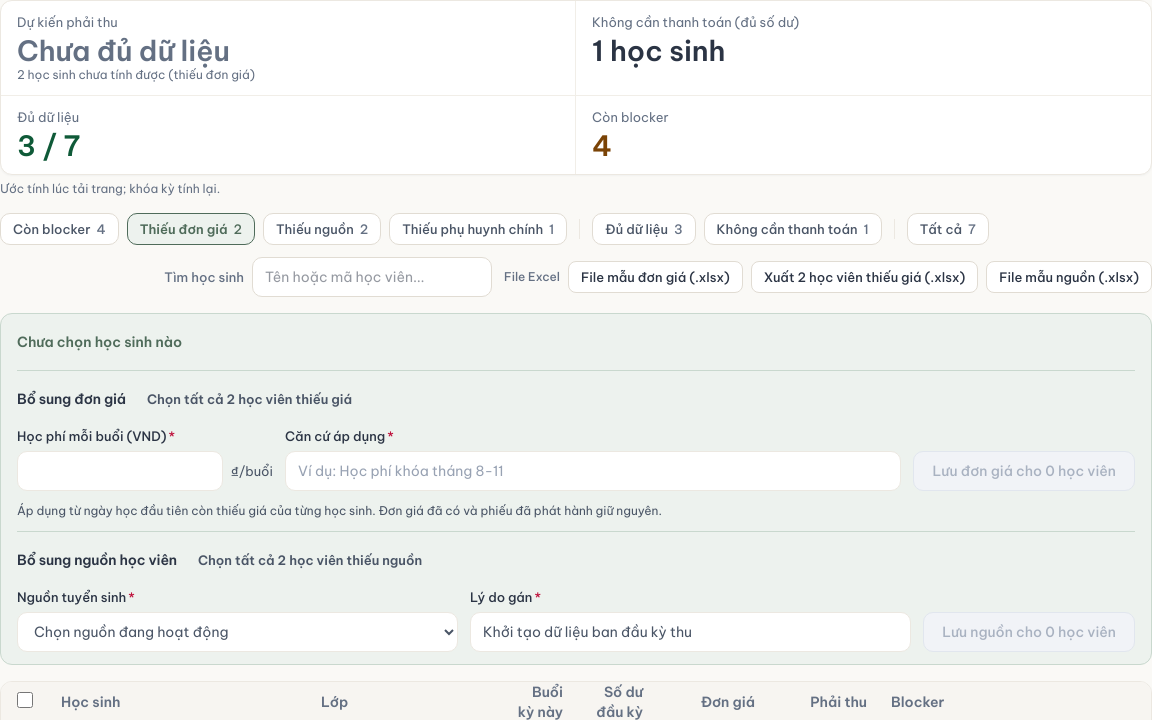
it: TuitionReadinessTable · design 15a › shows class, balance, rates, payable and blocker badges per student, blockers first
Click the button "Tất cả 7": point(948, 229) [907,213,989,245]
(page scrolled)
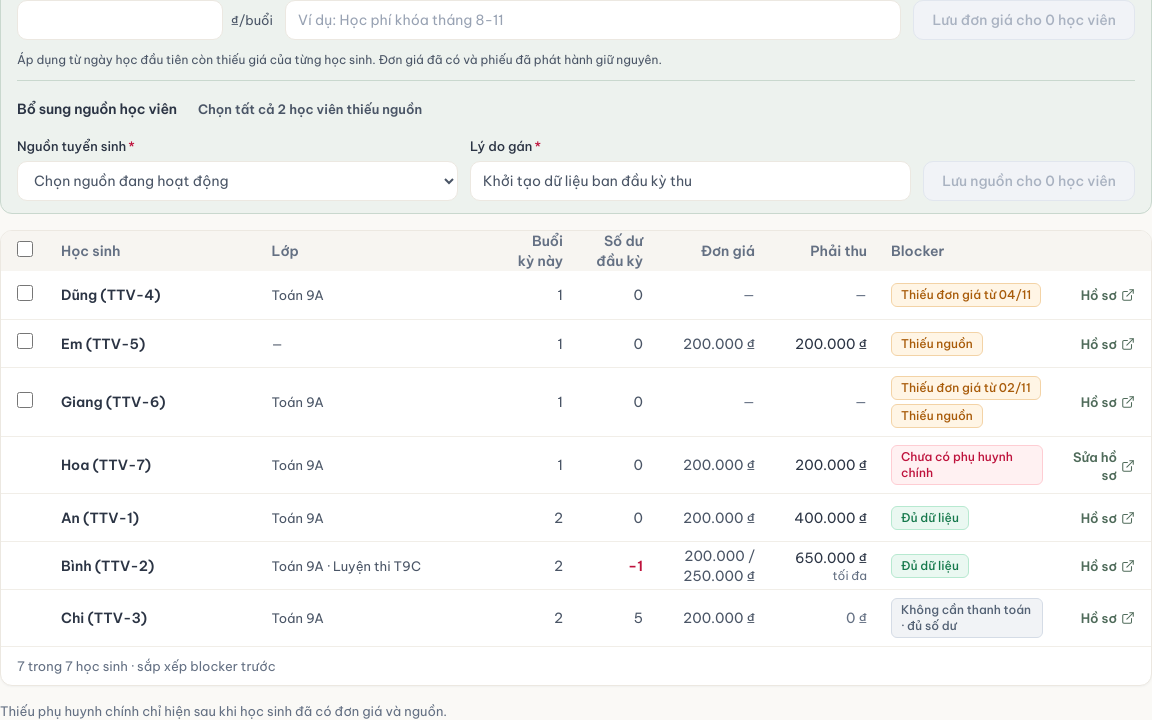
Result: the text "Toán 9A · Luyện thi T9C" is shown at [260,541,503,589]
Result: the text "200.000 / 250.000 ₫" is shown at [683,546,755,584]
Result: the text "650.000 ₫" is shown at [795,548,867,566]
